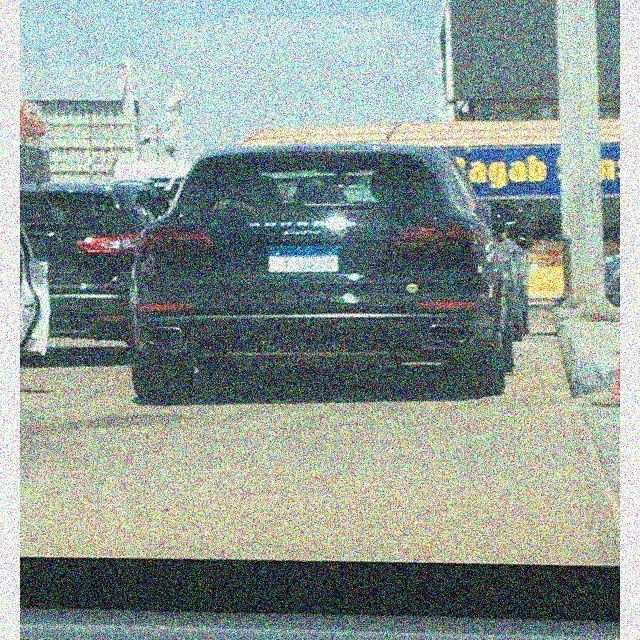License Plate: (266, 243, 342, 273)
